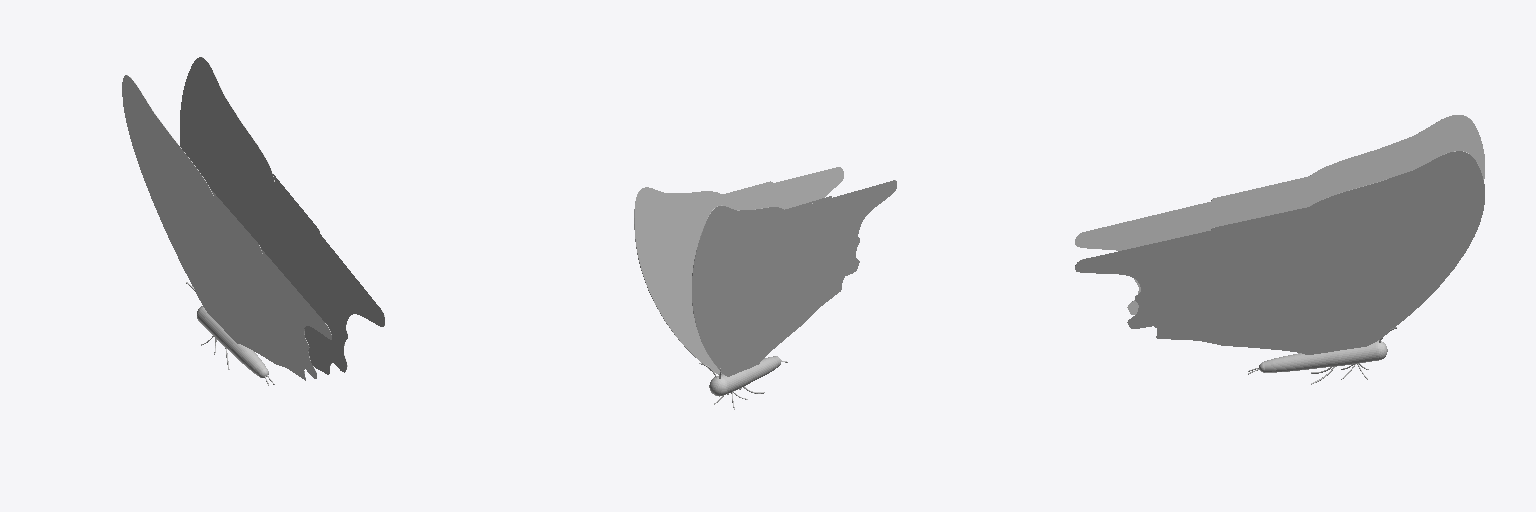
The model's file is butterfly.obj.
The picture shows the model from 3 angles: view 1: azimuth 30°, elevation 25°; view 2: azimuth 150°, elevation 25°; view 3: azimuth 270°, elevation 25°; orthographic projection.
Parts seen in each view (by area): view 1: Blue Extrude_NURBS Cap_21, Blue Extrude_NURBS_1 Cap_11, Blue Capsule; view 2: Blue Extrude_NURBS Cap_21, Blue Extrude_NURBS_1 Cap_11, Blue Capsule; view 3: Blue Extrude_NURBS_1 Cap_2, Blue Extrude_NURBS Cap_1, Blue Capsule.
Boxes of the visible parts, x1=… form: Blue Extrude_NURBS Cap_21: x1=122, y1=75, x2=331, y2=380; Blue Extrude_NURBS_1 Cap_11: x1=180, y1=57, x2=384, y2=374; Blue Capsule: x1=197, y1=306, x2=268, y2=377; Blue Extrude_NURBS Cap_21: x1=692, y1=180, x2=896, y2=376; Blue Extrude_NURBS_1 Cap_11: x1=635, y1=167, x2=843, y2=373; Blue Capsule: x1=709, y1=356, x2=780, y2=396; Blue Extrude_NURBS_1 Cap_2: x1=1075, y1=151, x2=1484, y2=354; Blue Extrude_NURBS Cap_1: x1=1075, y1=115, x2=1484, y2=314; Blue Capsule: x1=1259, y1=340, x2=1387, y2=372.
Size of the model in its own units: 110 by 345 by 521.